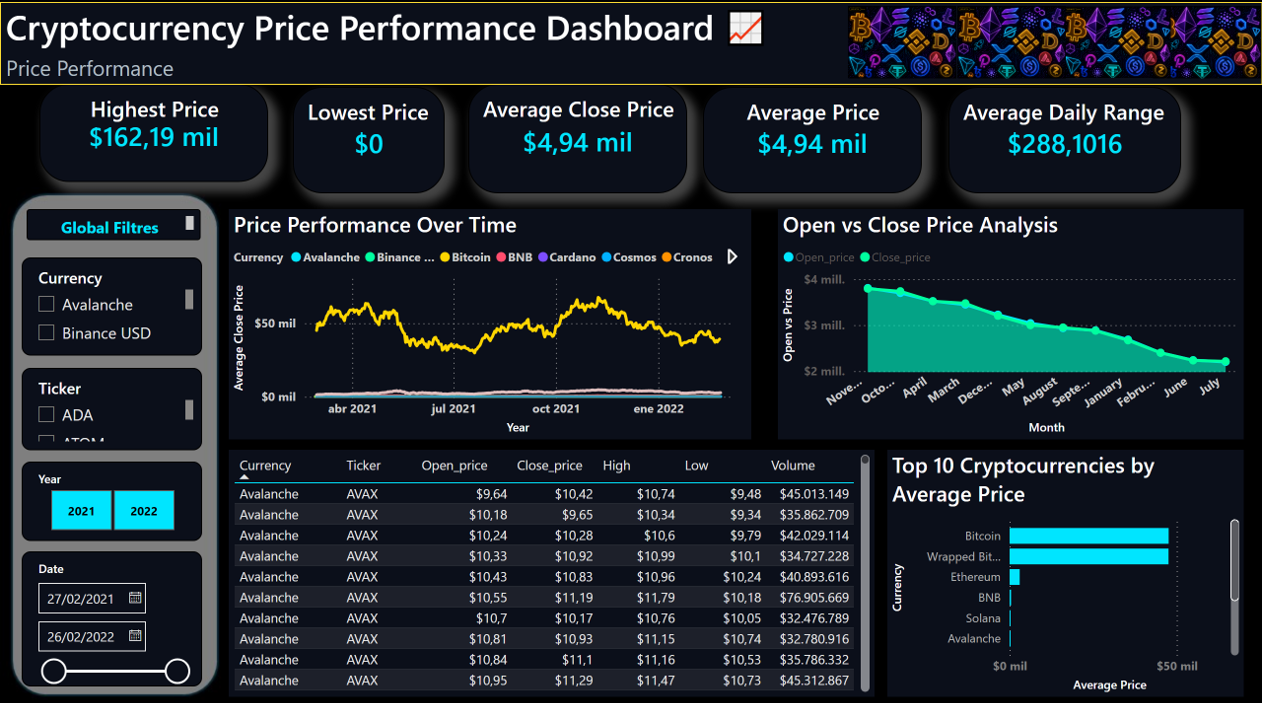

Layout of this report page (visuals, bound fields, positions):
{"tool":"powerbi","page":{"name":"PRICE PERFORMANCE","canvas":[1280,720],"ordinal":1},"visuals":[{"type":"card","title":"Highest Price","fields":{"Values":["crypto_history.Highest Price"]},"box":[40.3,85,231.8,99.4],"z":0},{"type":"card","title":"Lowest Price","fields":{"Values":["crypto_history.Lowest Price"]},"box":[296.6,87.8,154.1,108],"z":1000},{"type":"card","title":"Average Close Price","fields":{"Values":["crypto_history.Average Close Price"]},"box":[475.2,85,221.8,110.9],"z":2000},{"type":"card","title":"Average Price","fields":{"Values":["crypto_history.Average Price"]},"box":[712.8,87.8,221.8,108],"z":3000},{"type":"card","title":"Average Daily Range","fields":{"Values":["crypto_history.Average Daily Range"]},"box":[961.9,87.8,236.2,108],"z":4000},{"type":"lineChart","title":"Price Performance Over Time","fields":{"Y":["crypto_history.Average Close Price"],"Series":["crypto_history.Currency"],"Category":["Calendar.Date.Variación.Jerarquía de fechas.Año","Calendar.Date.Variación.Jerarquía de fechas.Mes","Calendar.Date.Variación.Jerarquía de fechas.Día"]},"box":[231.8,211.7,529.9,233.3],"z":5000},{"type":"lineChart","title":"Open vs Close Price Analysis","fields":{"Y":["Sum(crypto_history.Open_price)","Sum(crypto_history.Close_price)"],"Category":["Calendar.Month Name"]},"box":[789.1,211.7,472.3,233.3],"z":6000},{"type":"clusteredBarChart","title":"Top 10 Cryptocurrencies by Average Price","fields":{"Category":["crypto_history.Currency"],"Y":["crypto_history.Average Price"]},"box":[900,456.5,361.4,250.6],"z":7000},{"type":"tableEx","fields":{"Values":["crypto_history.Currency","crypto_history.Ticker","crypto_history.Open_price","crypto_history.Close_price","crypto_history.High","crypto_history.Low","crypto_history.Volume"]},"box":[231.8,456.5,655.2,250.6],"z":8000},{"type":"slicer","fields":{"Values":["crypto_history.Currency"]},"box":[21.6,260.6,182.9,99.4],"z":9000},{"type":"slicer","fields":{"Values":["crypto_history.Ticker"]},"box":[21.6,373,182.9,83.5],"z":10000},{"type":"slicer","fields":{"Values":["crypto_history.Date"]},"box":[21.6,558.7,182.9,136.8],"z":11000},{"type":"slicer","fields":{"Values":["Calendar.Year"]},"box":[21.6,468,182.9,80.6],"z":12000},{"type":"textbox","title":"Cryptocurrency Price Performance Dashboard 📈","box":[0,1.6,1280.6,83.9],"z":13000},{"type":"textbox","box":[26.7,211.7,176.7,31.7],"z":14000},{"type":"image","box":[1168.2,6.1,111.8,73.5],"z":15000},{"type":"image","box":[1079.4,6.1,108.7,73.5],"z":16000},{"type":"image","box":[970.7,6.1,110.2,73.5],"z":17000},{"type":"image","box":[858.9,6.1,111.8,73.5],"z":18000}]}

Visuals, with their boxes in screenshot pixels (x1, y1, x2, y2), scaled from the page's 1280x720 canvas onto the 1262x703 screenshot:
"Highest Price" card: 40 83 268 180
"Lowest Price" card: 292 86 444 191
"Average Close Price" card: 469 83 687 191
"Average Price" card: 703 86 921 191
"Average Daily Range" card: 948 86 1181 191
"Price Performance Over Time" lineChart: 229 207 751 434
"Open vs Close Price Analysis" lineChart: 778 207 1244 434
"Top 10 Cryptocurrencies by Average Price" clusteredBarChart: 887 446 1244 690
tableEx - crypto_history.Currency x crypto_history.Ticker: 229 446 875 690
slicer - crypto_history.Currency: 21 254 202 352
slicer - crypto_history.Ticker: 21 364 202 446
slicer - crypto_history.Date: 21 546 202 679
slicer - Calendar.Year: 21 457 202 536
"Cryptocurrency Price Performance Dashboard 📈" textbox: 0 2 1261 83
textbox: 26 207 201 238
image: 1152 6 1261 78
image: 1064 6 1171 78
image: 957 6 1066 78
image: 847 6 957 78
